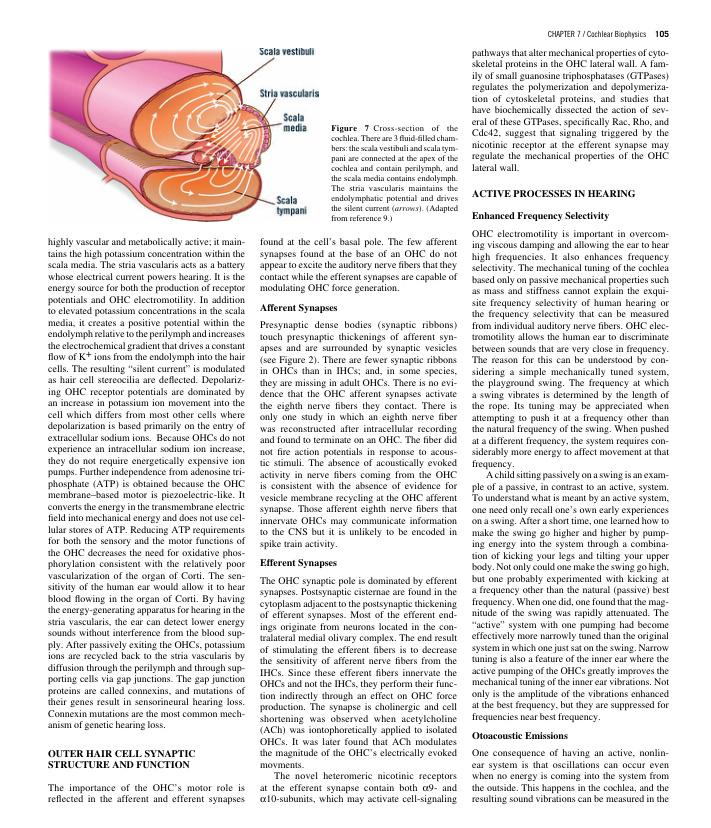caption: (330, 123, 459, 224)
header: (547, 29, 647, 40)
image: (45, 36, 324, 230)
section-heading: (47, 749, 197, 769), (471, 189, 636, 199)
sub-section-heading: (472, 211, 610, 222), (471, 731, 569, 741), (259, 303, 338, 314), (259, 558, 338, 569)
text: (470, 228, 670, 723), (47, 237, 246, 731), (259, 320, 458, 551), (259, 576, 458, 806), (470, 48, 670, 173), (258, 236, 459, 295), (471, 748, 670, 804), (47, 783, 246, 806)
